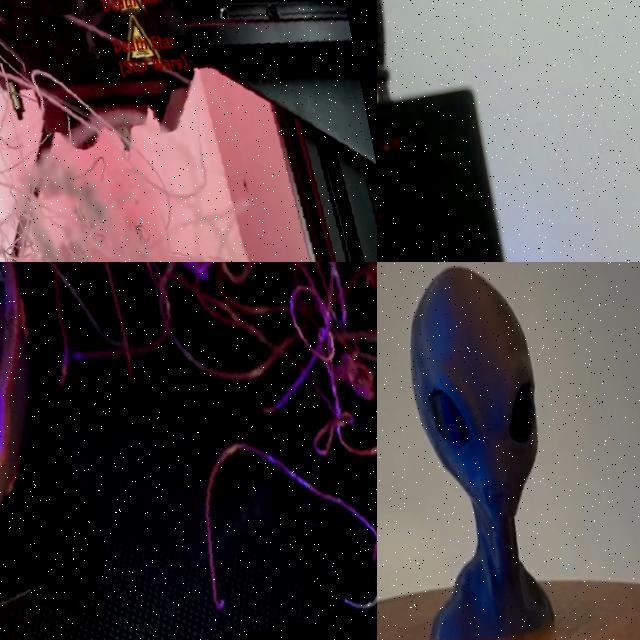spaghetti: (0, 262, 377, 640), (0, 55, 310, 262)
